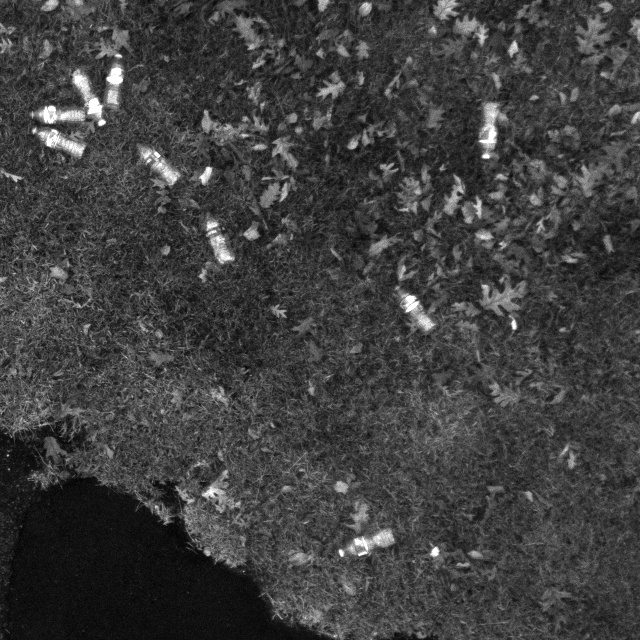bottle: (316, 514, 403, 569), (122, 128, 189, 193), (386, 271, 443, 336), (465, 93, 510, 166), (22, 118, 91, 162), (194, 209, 239, 274), (94, 45, 134, 113), (68, 65, 110, 125), (22, 99, 87, 129)
